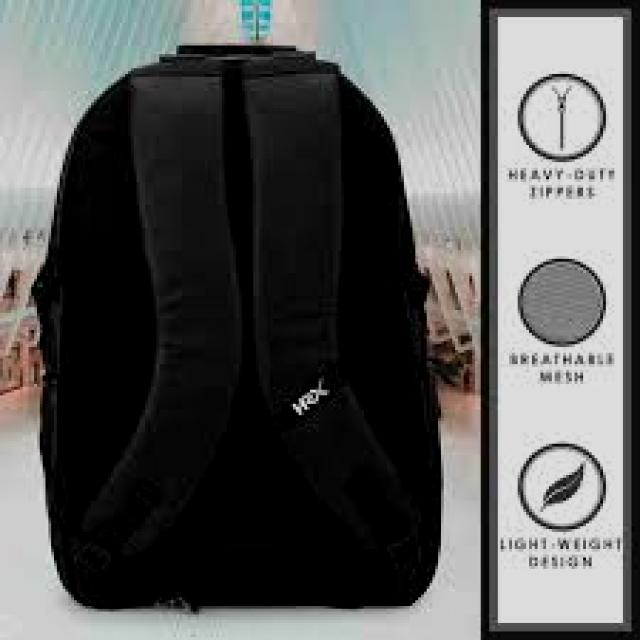backpack: (30, 44, 442, 610)
